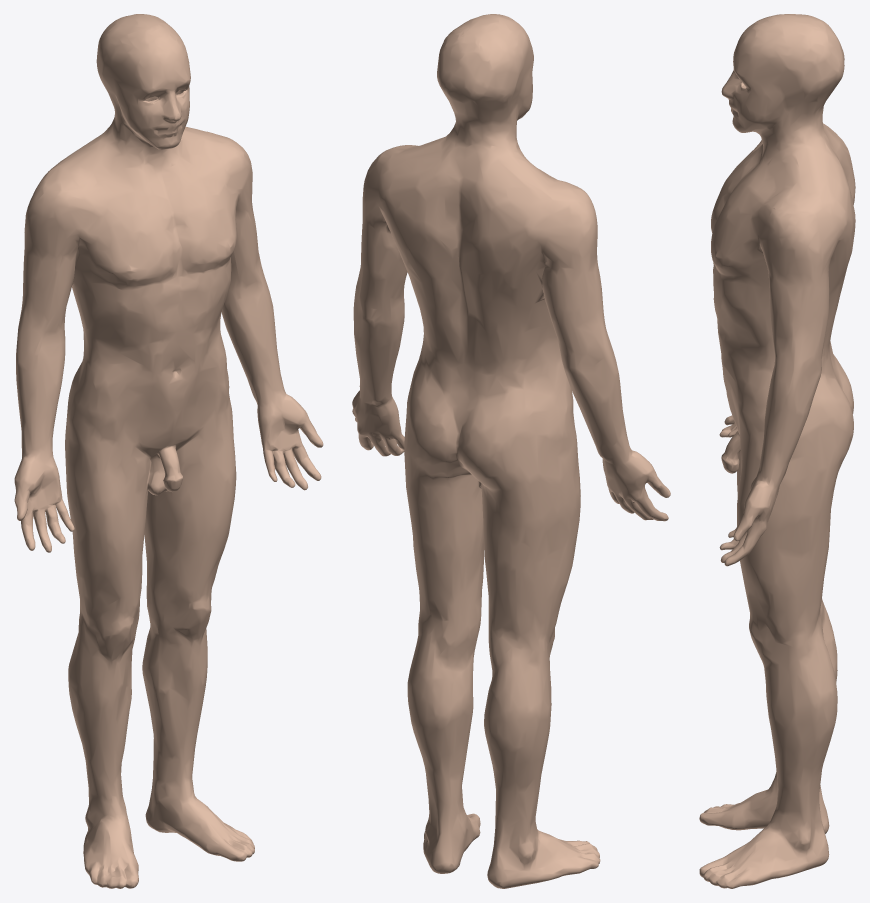
Rendered from skin.glb.
3 renders of one model, left to right at view 1: azimuth 30°, elevation 25°; view 2: azimuth 150°, elevation 25°; view 3: azimuth 270°, elevation 25°, orthographic. The views are drawn at different scales.
Parts seen in each view (by area): view 1: skin; view 2: skin; view 3: skin.
Part boxes in pixels (box(x1,y1,x2,y2)): skin: box(14, 14, 323, 888); skin: box(352, 14, 670, 888); skin: box(699, 14, 855, 888).
Size of the model in its own units: 0.6669 by 1.72 by 0.2919.
